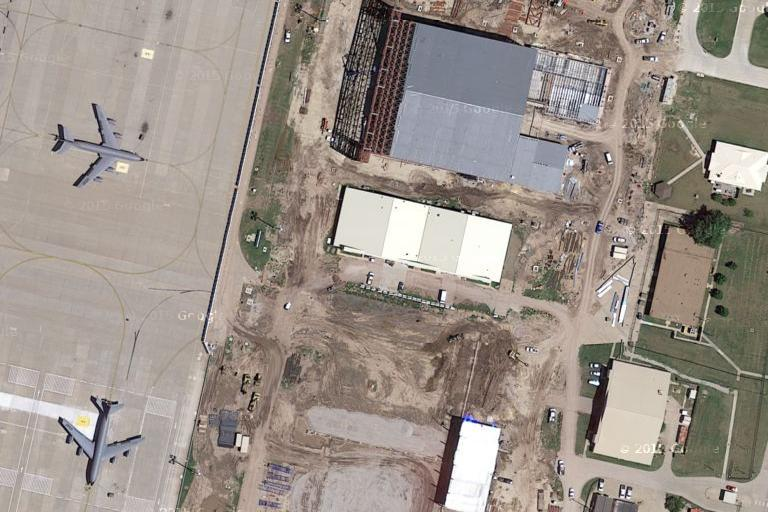KC-135: (45, 99, 152, 192), (53, 392, 147, 490)
